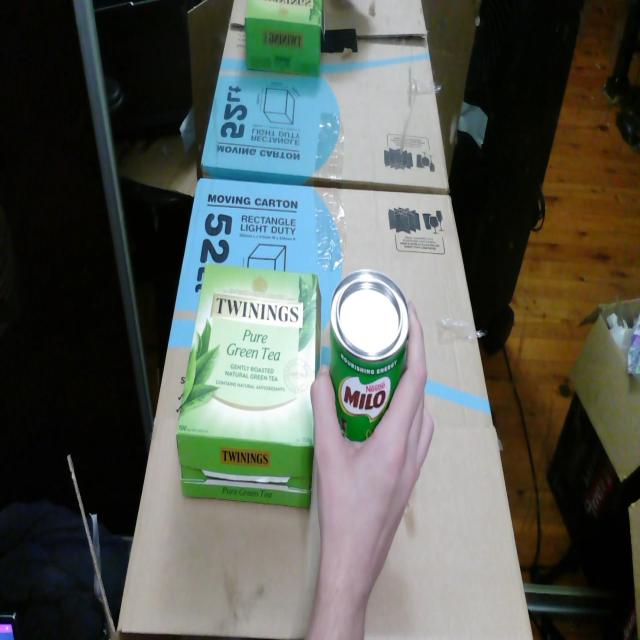nestle_milo_tin: (329, 269, 409, 441)
twinings_greentea_box: (177, 264, 321, 508)
